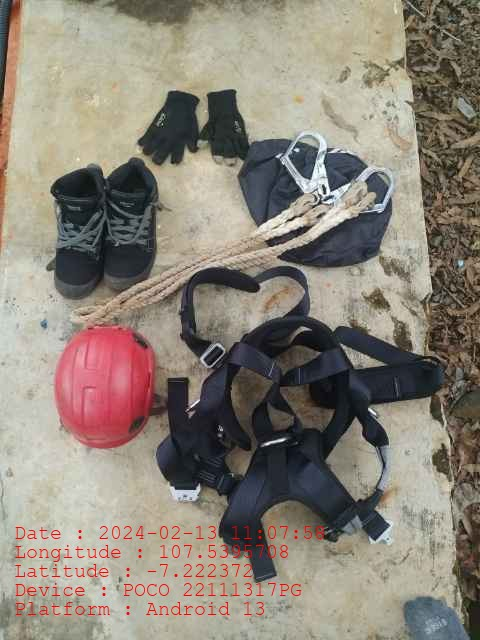HELM: (54, 324, 153, 448)
SARUNG_TANGAN: (137, 90, 198, 167), (199, 90, 249, 167)
SEPATU: (51, 161, 158, 297)
